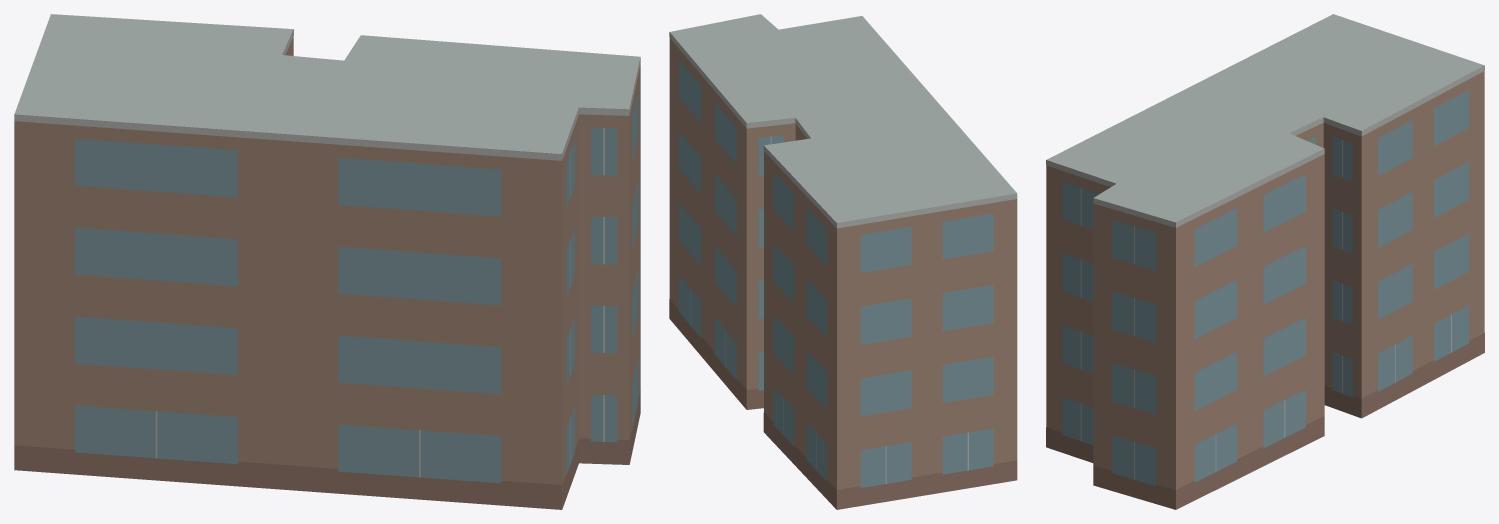
File: survey-upis-32996378.glb
3 renders of one model, left to right at view 1: azimuth 30°, elevation 25°; view 2: azimuth 150°, elevation 25°; view 3: azimuth 270°, elevation 25°, orthographic. The views are drawn at different scales.
Visible parts, largest first — view 1: survey-upis-32996378.tmp; view 2: survey-upis-32996378.tmp; view 3: survey-upis-32996378.tmp.
Boxes of the visible parts, box(x1,y1,x2,y2) form: survey-upis-32996378.tmp: box(14, 14, 640, 509); survey-upis-32996378.tmp: box(669, 14, 1017, 509); survey-upis-32996378.tmp: box(1046, 14, 1484, 509).
Size of the model in its own units: 20 by 12.85 by 17.78.
